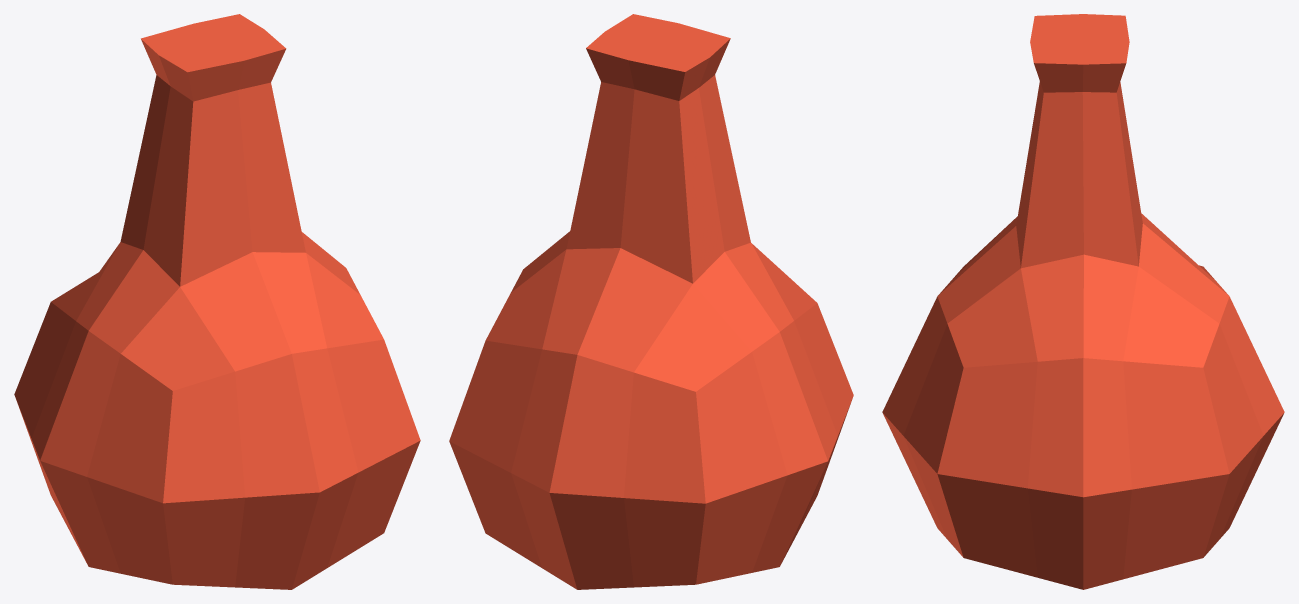
Rendered from potion proto.fbx.
The picture shows the model from 3 angles, left to right: view 1: azimuth 30°, elevation 25°; view 2: azimuth 150°, elevation 25°; view 3: azimuth 270°, elevation 25°; orthographic projection.
Visible parts, largest first — view 1: potion; view 2: potion; view 3: potion.
Part boxes in pixels (x1,y1,x2,y2): potion: (14,14,420,589); potion: (449,14,853,589); potion: (882,14,1284,589).
Size of the model in its own units: 0.7229 by 0.7229 by 1.05.
